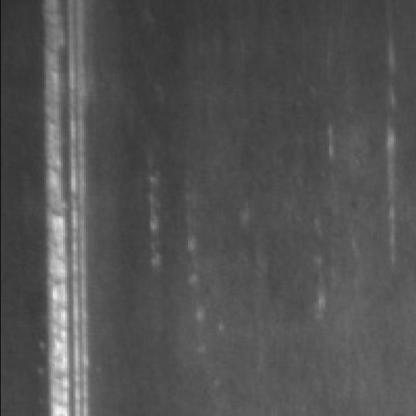scratches: (44, 4, 104, 416)
